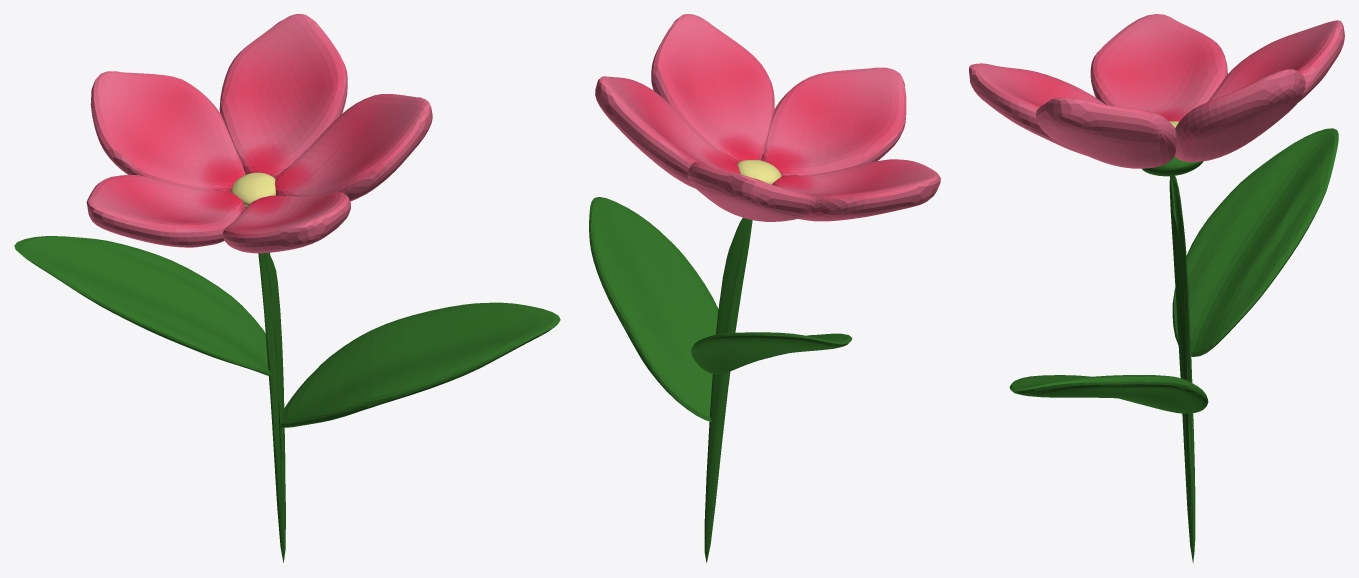
File: Anger_Phlox.glb
3 renders of one model, left to right at view 1: azimuth 30°, elevation 25°; view 2: azimuth 150°, elevation 25°; view 3: azimuth 270°, elevation 25°, orthographic. The views are drawn at different scales.
Visible parts, largest first — view 1: Cube.002; view 2: Cube.002; view 3: Cube.002.
Boxes of the visible parts, x1,y1,x2,y2 form: Cube.002: (14,14,560,562); Cube.002: (589,14,940,562); Cube.002: (969,14,1344,563).
Size of the model in its own units: 5.94 by 7.03 by 4.57.
3 materials, 1 textured.
